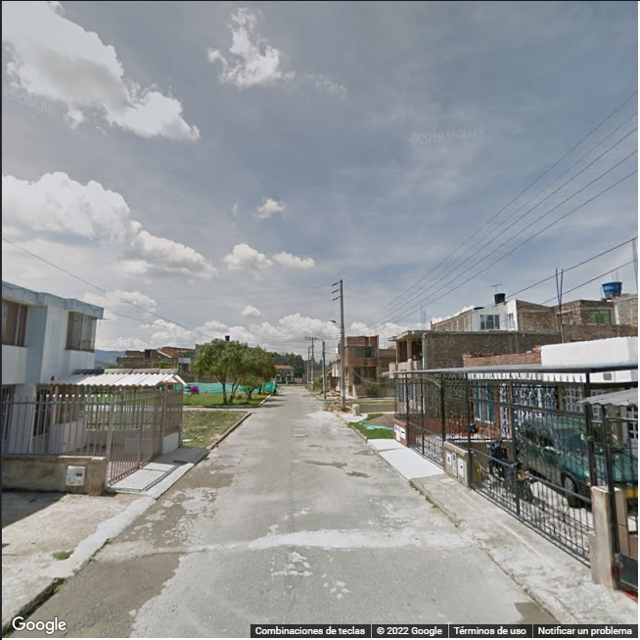D20: (164, 501, 196, 548)
